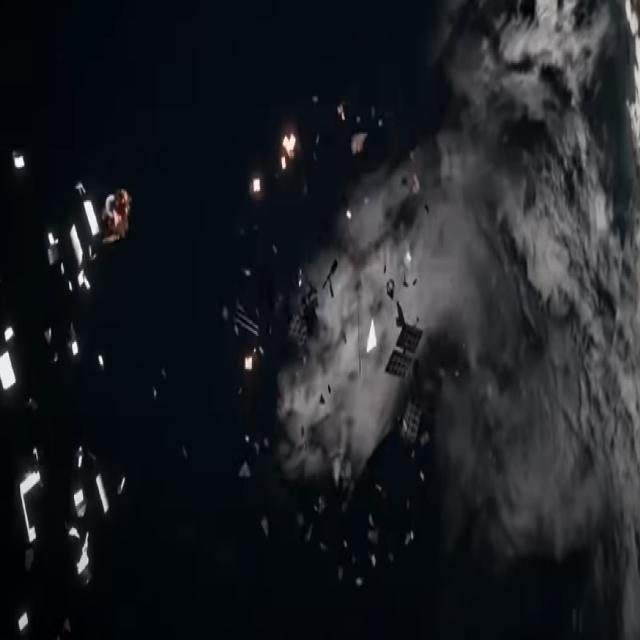large_debris: (44, 154, 133, 307), (71, 436, 112, 608), (18, 458, 56, 622), (41, 329, 113, 388), (282, 244, 316, 365), (332, 83, 376, 168), (228, 292, 259, 393), (386, 316, 422, 392), (0, 301, 22, 424), (328, 445, 357, 509), (246, 156, 270, 228), (278, 123, 300, 193), (323, 252, 341, 328), (404, 390, 427, 446), (382, 268, 398, 336), (401, 162, 417, 221), (10, 138, 30, 184)
